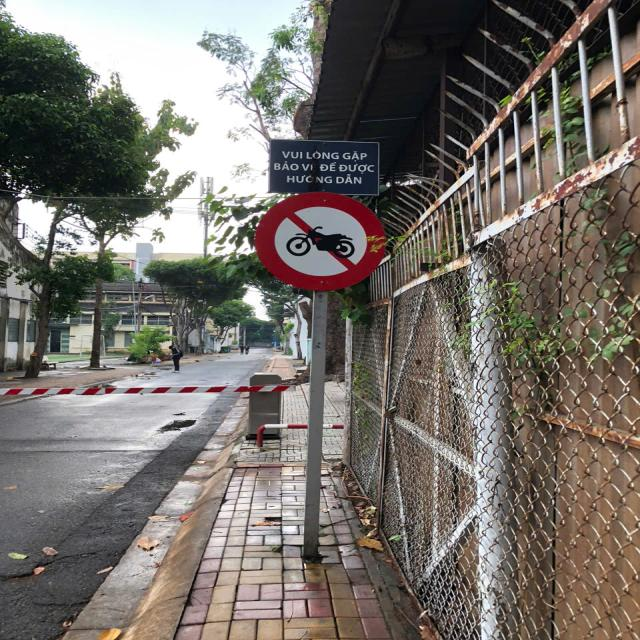Bien bao cam xe may: (244, 193, 392, 299)
